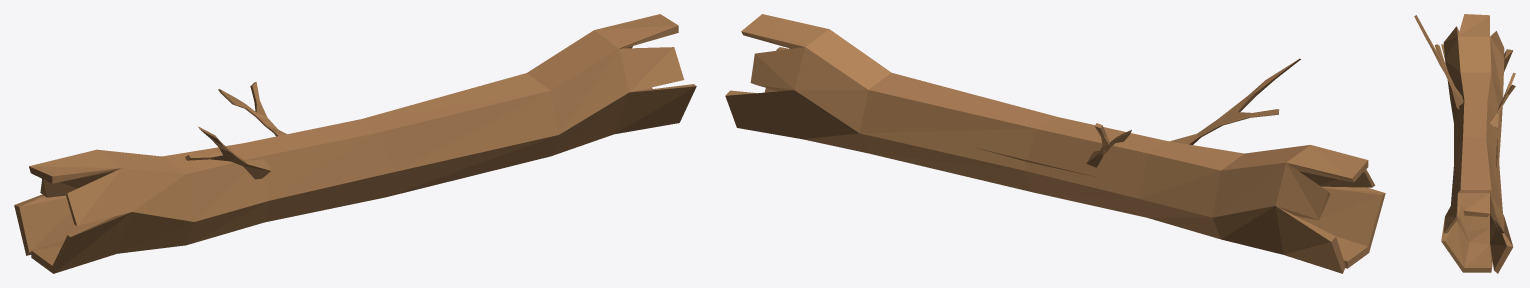
File: obj_hollow_log_7_0.obj
The picture shows the model from 3 angles, left to right: view 1: azimuth 30°, elevation 25°; view 2: azimuth 150°, elevation 25°; view 3: azimuth 270°, elevation 25°; orthographic projection. The views are drawn at different scales.
Bounding box in the file's own units: 2.83 × 0.6562 × 0.6172.
